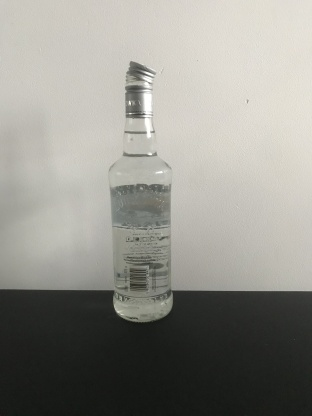nakretka: (123, 58, 157, 119)
